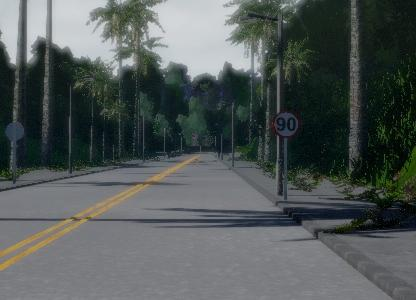Speed_90: (271, 109, 300, 140)
